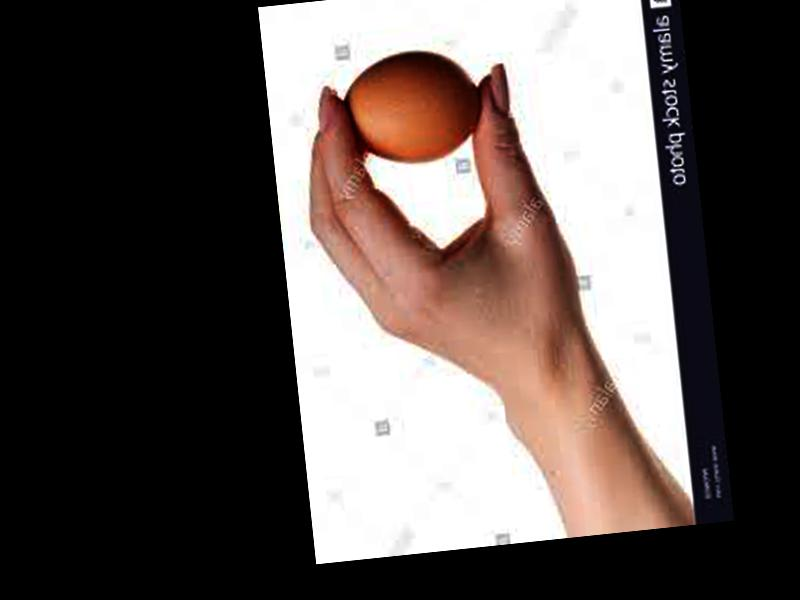Eggs: (340, 44, 485, 174)
